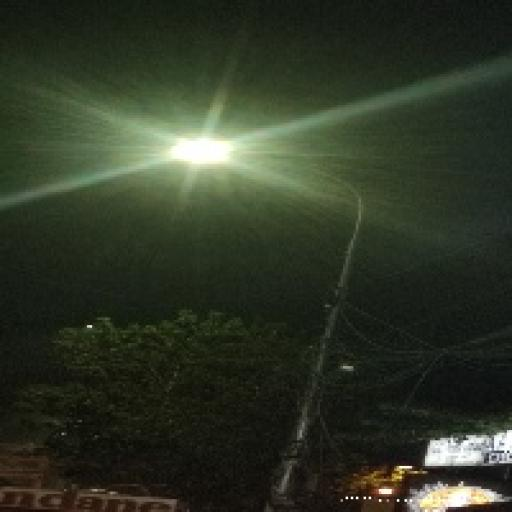Working: (157, 119, 245, 193)
